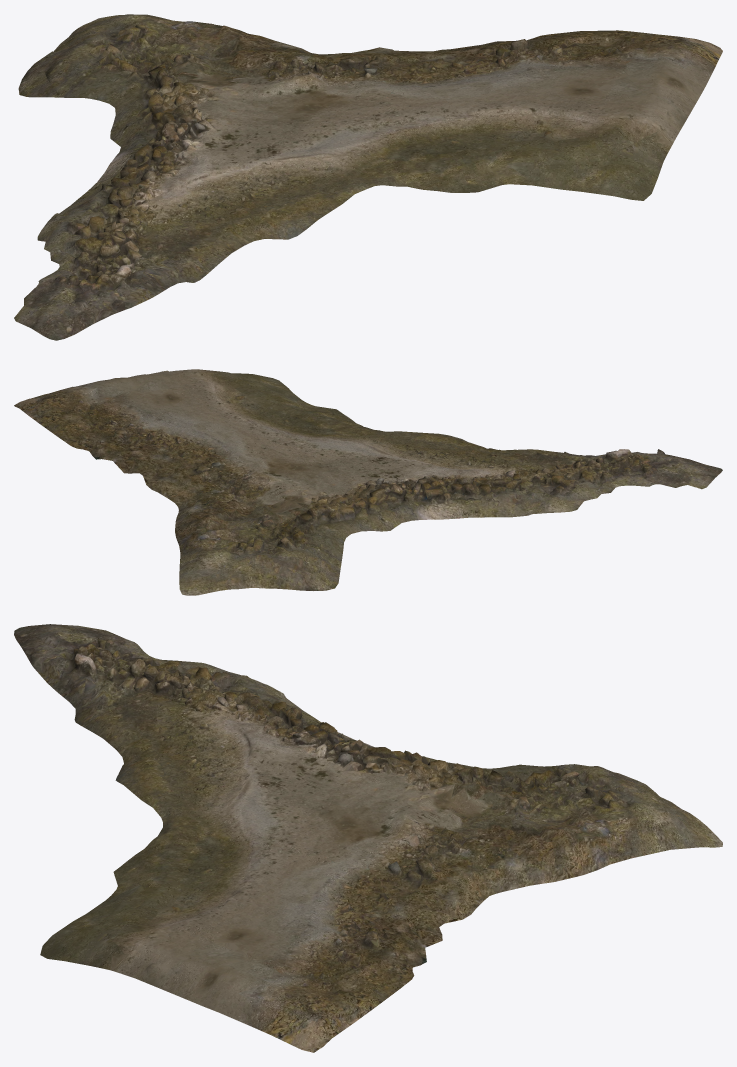
Rendered from desert_rock.glb.
3 views of the same model, one above another, from view 1: azimuth 30°, elevation 25°; view 2: azimuth 150°, elevation 25°; view 3: azimuth 270°, elevation 25° (orthographic). The views are drawn at different scales.
Visible parts, largest first — view 1: coast_rocks_01_LOD0; view 2: coast_rocks_01_LOD0; view 3: coast_rocks_01_LOD0.
Part boxes in pixels (x1,y1,x2,y2): coast_rocks_01_LOD0: [14, 14, 722, 340]; coast_rocks_01_LOD0: [14, 369, 722, 595]; coast_rocks_01_LOD0: [14, 624, 722, 1052].
Bounding box in the file's own units: 4 × 0.2217 × 2.86.
1 material, 1 textured.
